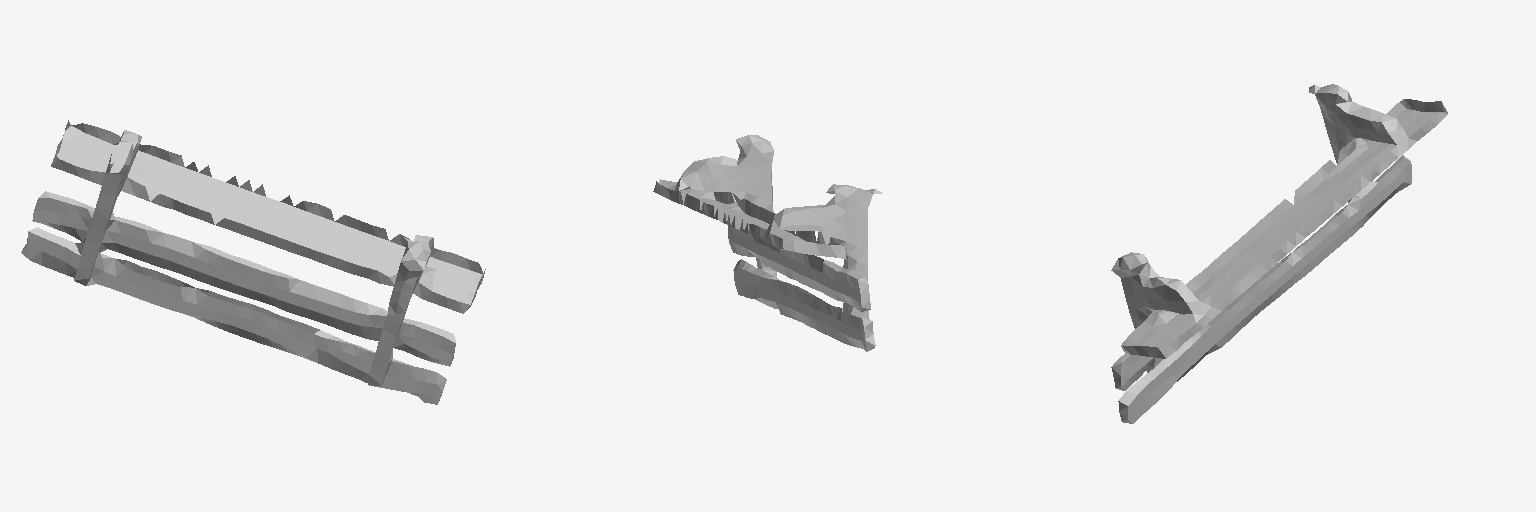
The model's file is parkbankjeLowPoly.obj.
3 views of the same model, side by side, from view 1: azimuth 30°, elevation 25°; view 2: azimuth 150°, elevation 25°; view 3: azimuth 270°, elevation 25° (orthographic).
Size of the model in its own units: 2.7 by 1.77 by 2.3.